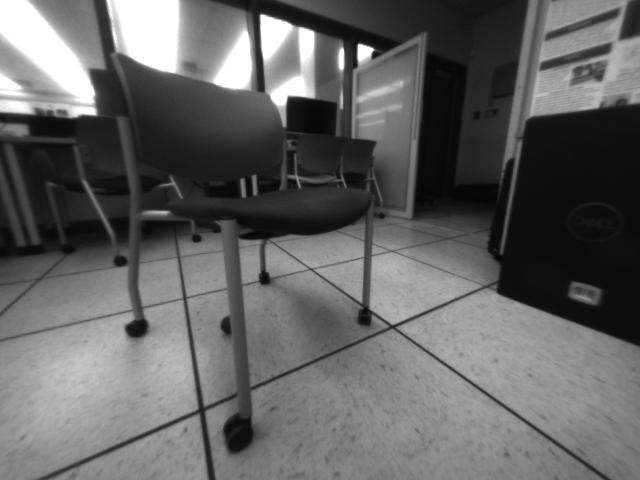dogtoy: (215, 306, 243, 342)
